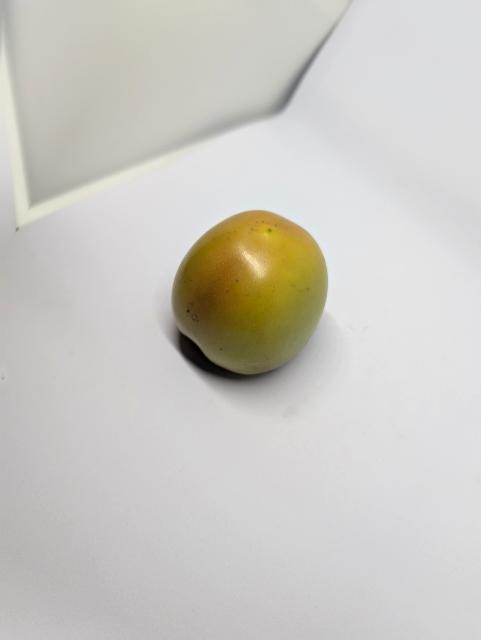breaker: (166, 207, 334, 382)
